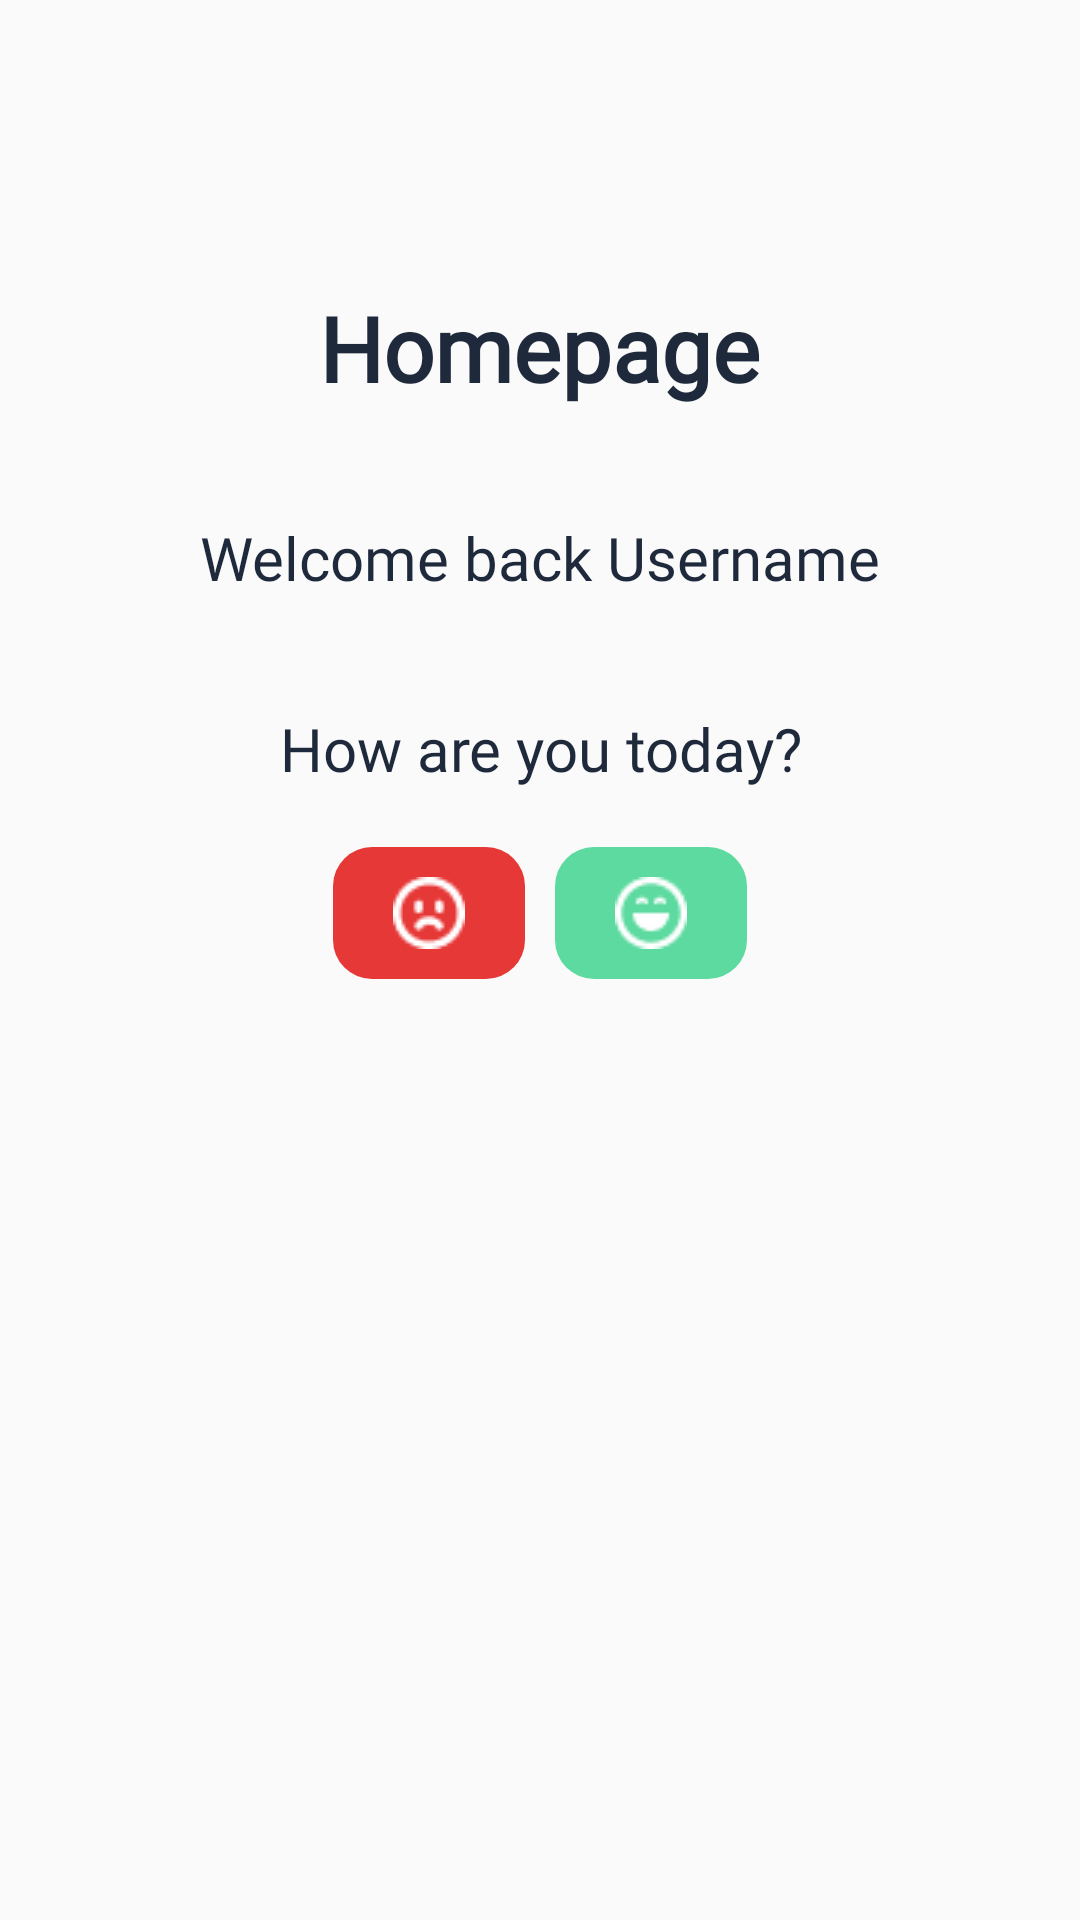

Icons on this 1080px×1920px Android screen, each with the point to tap as (x=x, y=y):
happy: (x=651, y=913)
sad: (x=429, y=913)
